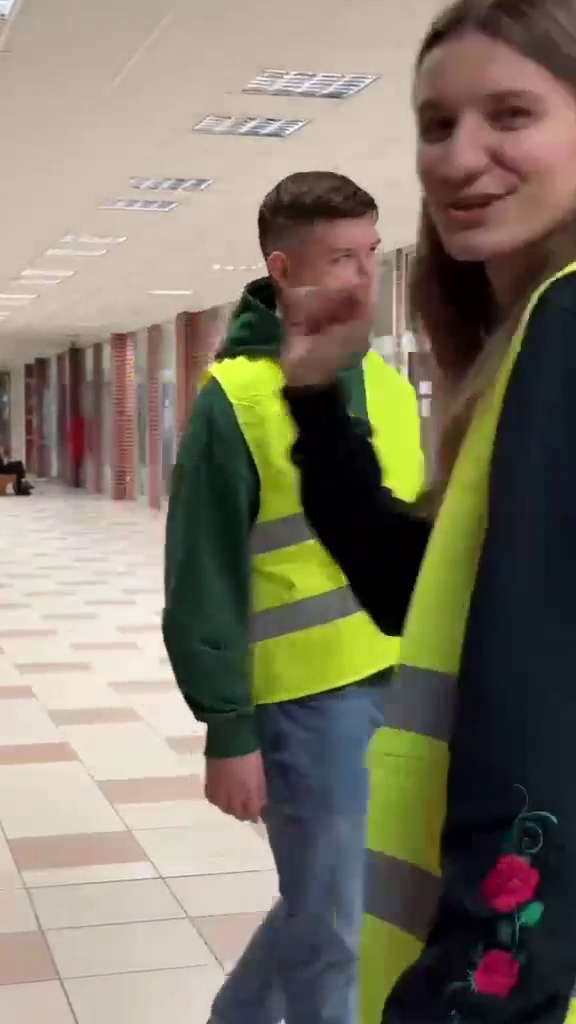vest: (161, 154, 405, 889), (395, 9, 576, 997)
